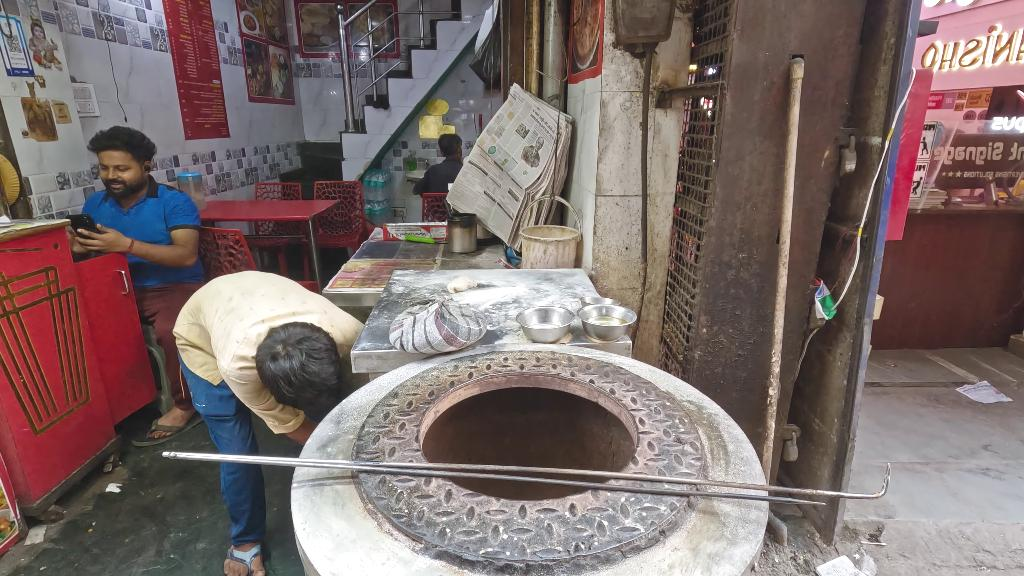garbage: (955, 377, 1013, 406)
